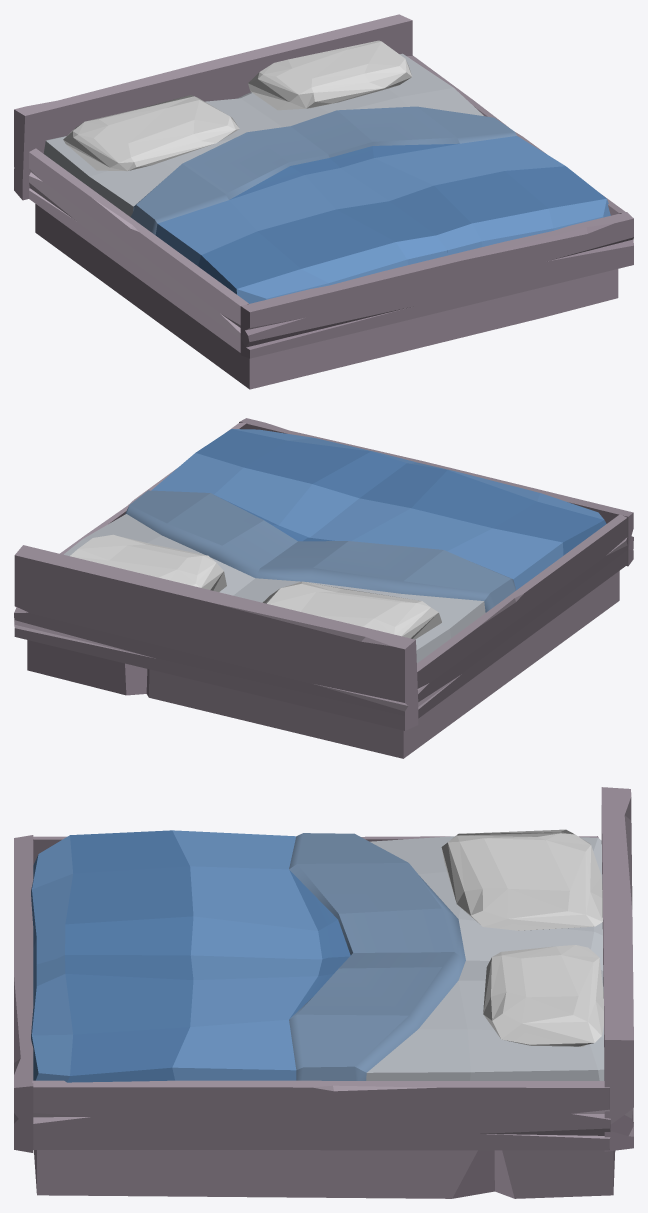
Rendered from SM_Prop_DubbleBed_floorBlue.fbx.
3 renders of one model, top to bottom at view 1: azimuth 30°, elevation 25°; view 2: azimuth 150°, elevation 25°; view 3: azimuth 270°, elevation 25°, orthographic. The views are drawn at different scales.
Visible parts, largest first — view 1: SM_Prop_DubbleBed_floorBlue; view 2: SM_Prop_DubbleBed_floorBlue; view 3: SM_Prop_DubbleBed_floorBlue.
Boxes of the visible parts, <box> form: SM_Prop_DubbleBed_floorBlue: <box>14,14,633,389</box>; SM_Prop_DubbleBed_floorBlue: <box>14,418,633,758</box>; SM_Prop_DubbleBed_floorBlue: <box>14,787,633,1198</box>.
Bounding box in the file's own units: 2.04 × 0.6096 × 2.09.
